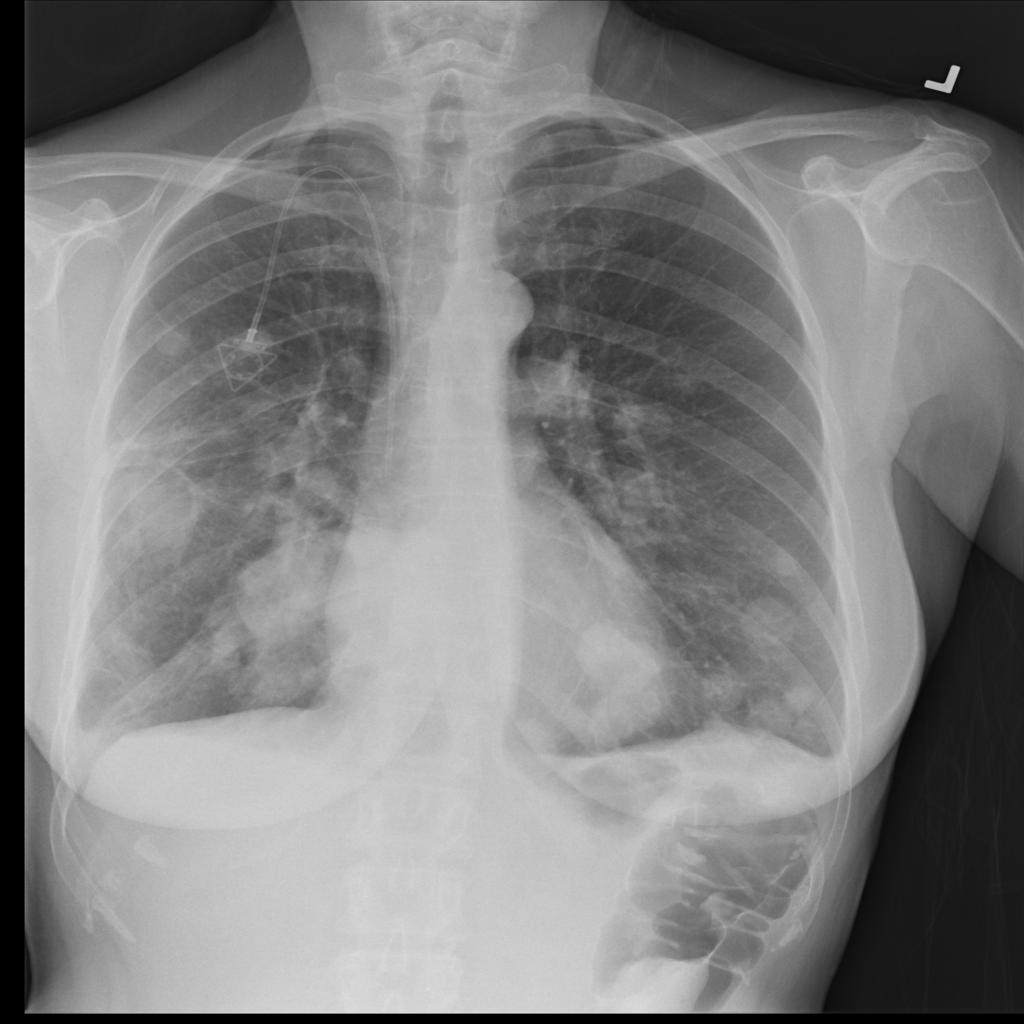nodule: (217, 512, 345, 668), (562, 605, 681, 732), (101, 447, 213, 567), (730, 588, 808, 661), (603, 389, 683, 456), (687, 658, 760, 723), (138, 308, 209, 373), (761, 534, 814, 585), (769, 679, 829, 724)
